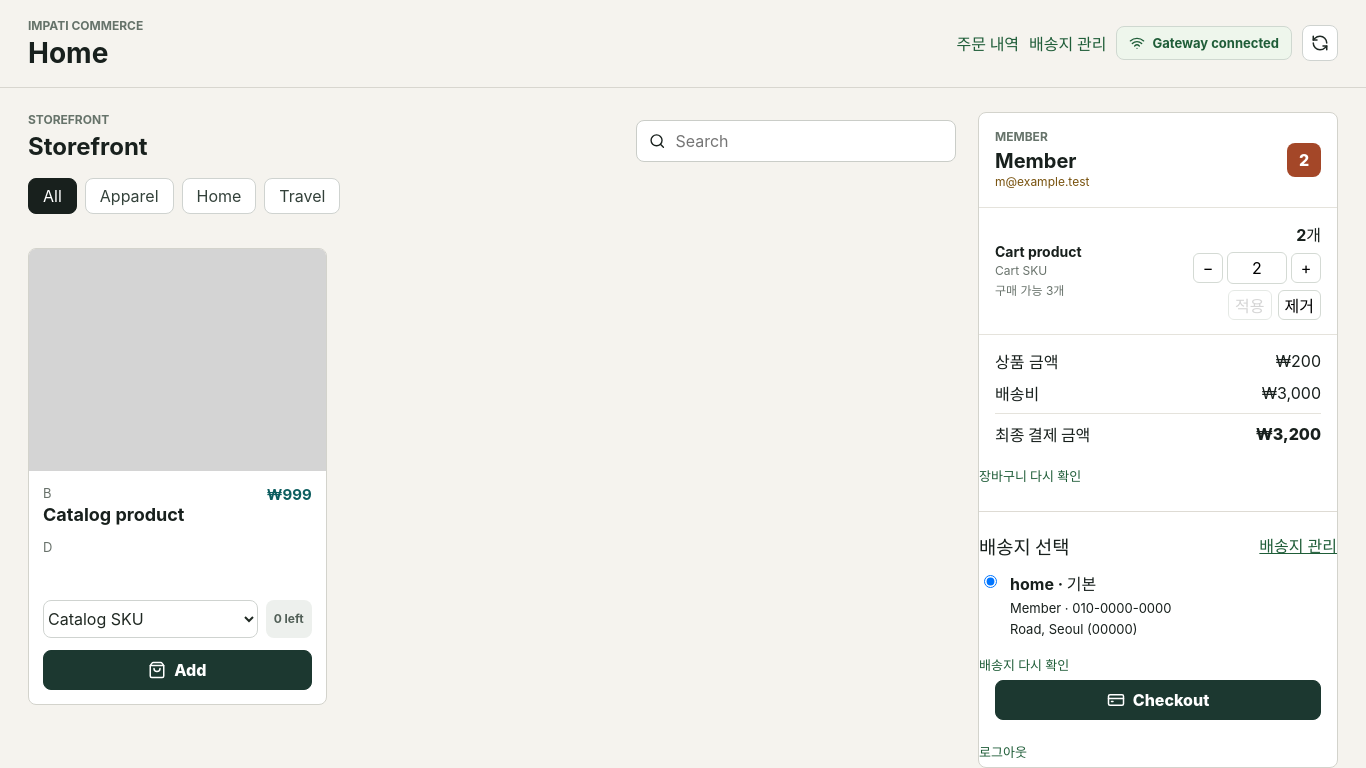
Test: requeries an unknown addition without repeating the command
The width and height of the screenshot is (1366, 768).
Expected: the button "Checkout" is enabled, x1=995 y1=680 x2=1321 y2=720
Click the button "Add". click: (177, 670)
box: x1=43 y1=650 x2=312 y2=690
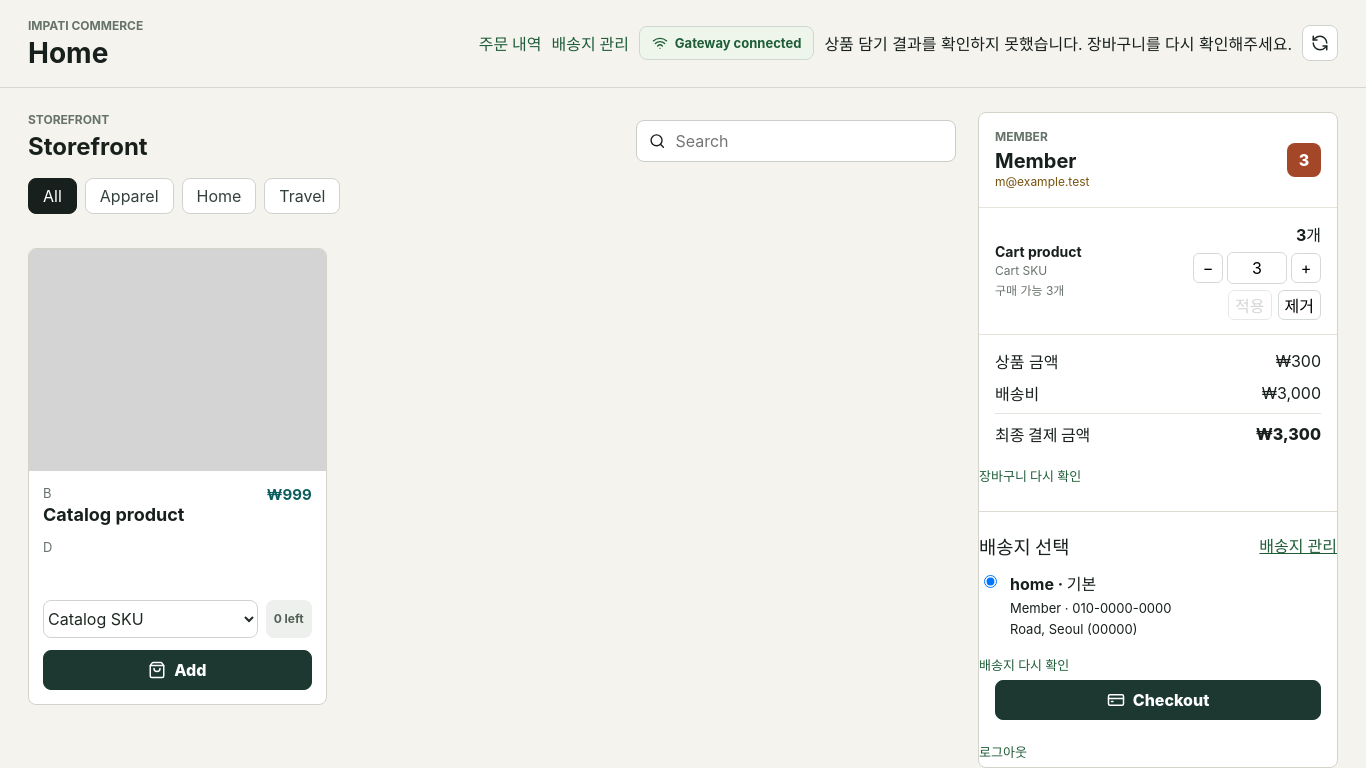
Expected: the text "상품 담기 결과를 확인하지 못했습니다. 장바구니를 다시 확인해주세요." is shown, x1=824 y1=31 x2=1292 y2=55
Expected: the text "3개" is shown, x1=1296 y1=222 x2=1321 y2=246
